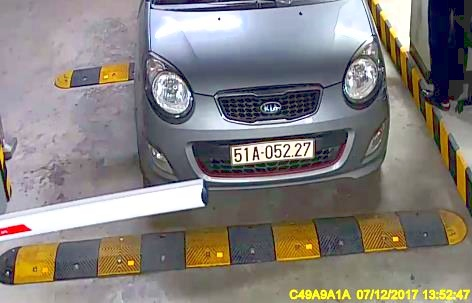plate: (228, 138, 318, 166)
